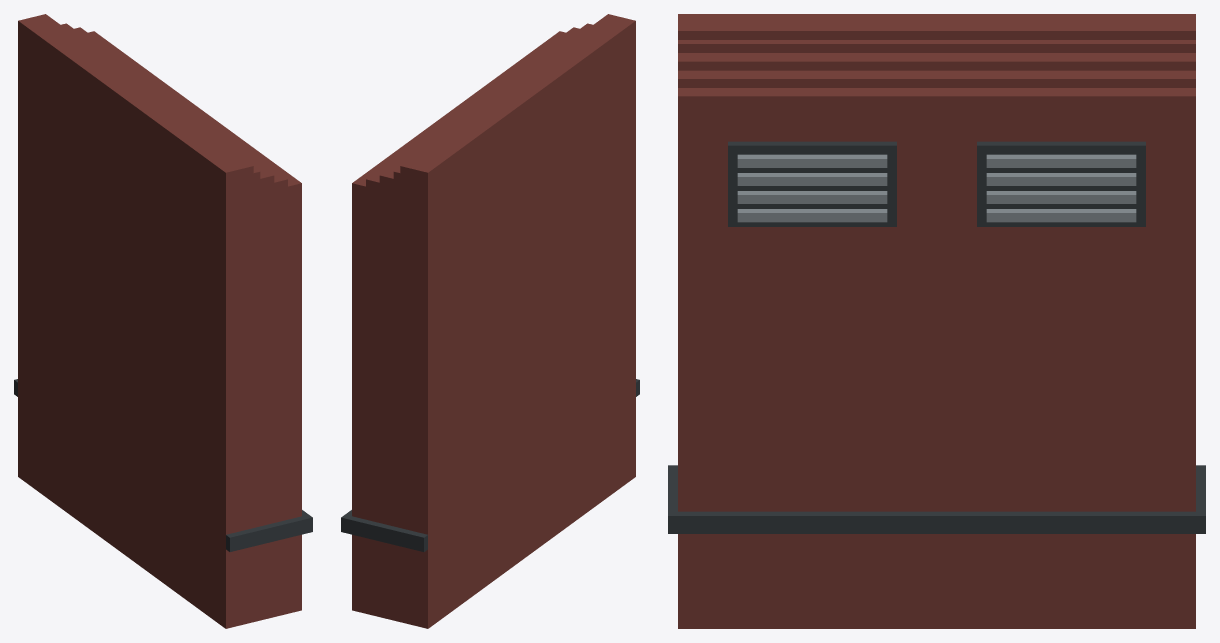
The model's file is horse_box_nose.glb.
The picture shows the model from 3 angles, left to right: view 1: azimuth 30°, elevation 25°; view 2: azimuth 150°, elevation 25°; view 3: azimuth 270°, elevation 25°; orthographic projection. The views are drawn at different scales.
Parts seen in each view (by area): view 1: body:compound; view 2: body:compound; view 3: body:compound.
Part boxes in pixels (box(x1,y1,x2,y2)): body:compound: box(14, 14, 312, 628); body:compound: box(341, 14, 639, 628); body:compound: box(668, 14, 1205, 628).
Bounding box in the file's own units: 0.4062 × 1.97 × 1.69.
